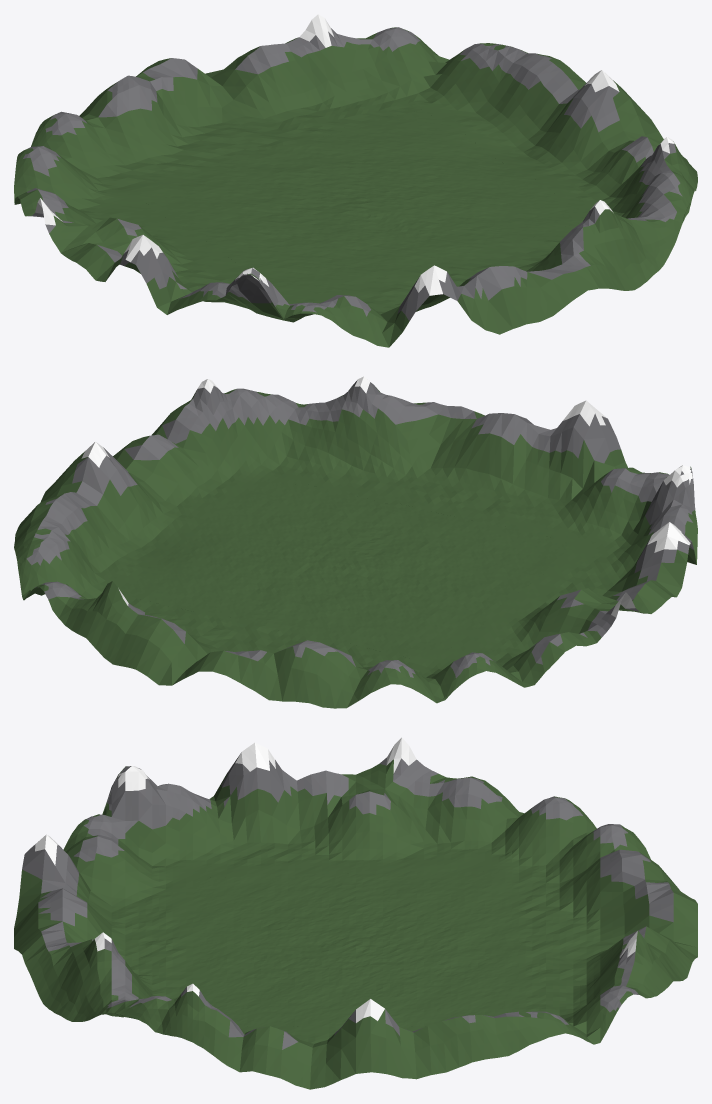
File: Terrain.dae
The picture shows the model from 3 angles, top to bottom: view 1: azimuth 30°, elevation 25°; view 2: azimuth 150°, elevation 25°; view 3: azimuth 270°, elevation 25°; orthographic projection.
Parts seen in each view (by area): view 1: Plane; view 2: Plane; view 3: Plane.
Part boxes in pixels (x1,y1,x2,y2): Plane: [14, 14, 697, 347]; Plane: [14, 376, 697, 708]; Plane: [14, 737, 697, 1089].
Size of the model in its own units: 453 by 453 by 58.51.
